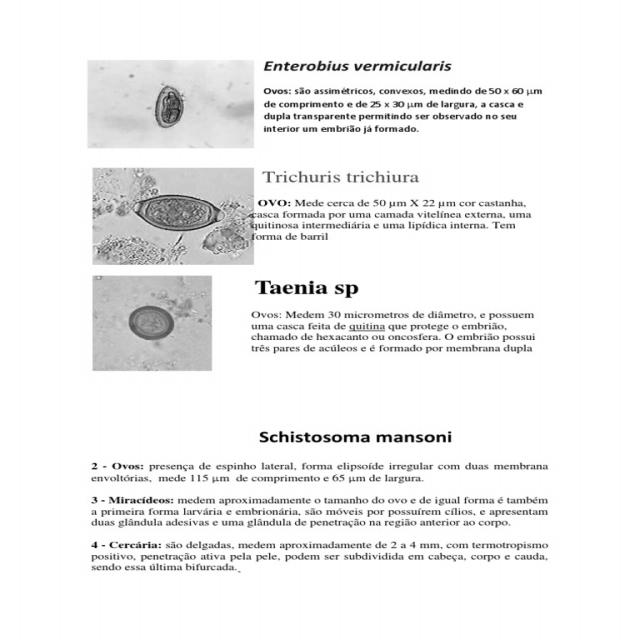Enterobius Vermicularis: (151, 79, 187, 130)
Taenia Sp: (125, 302, 178, 344)
Trichuris Trichiura: (129, 192, 229, 237)
